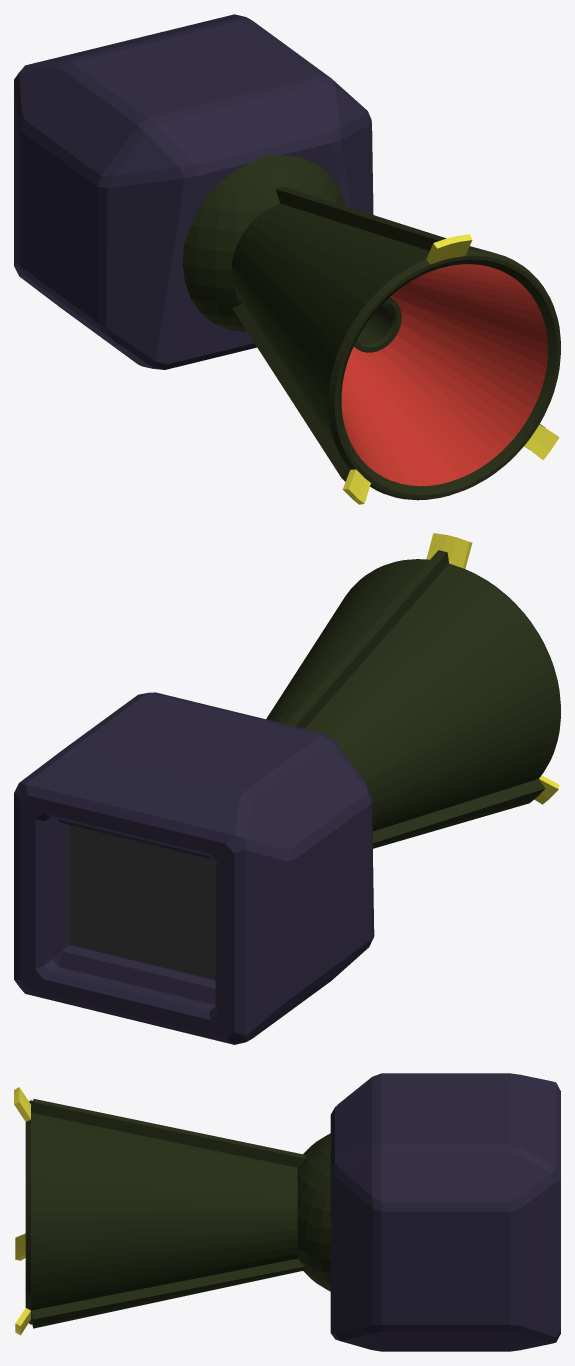
File: speedupitem.fbx
The picture shows the model from 3 angles, top to bottom: view 1: azimuth 30°, elevation 25°; view 2: azimuth 150°, elevation 25°; view 3: azimuth 270°, elevation 25°; orthographic projection. The views are drawn at different scales.
Parts seen in each view (by area): view 1: 球, Cube; view 2: Cube, 球; view 3: Cube, 球.
Boxes of the visible parts, box(x1,y1,x2,y2) form: 球: box(182, 155, 560, 504); Cube: box(14, 14, 373, 369); Cube: box(14, 692, 374, 1044); 球: box(266, 533, 560, 848); Cube: box(330, 1073, 560, 1351); 球: box(14, 1087, 331, 1335).
Size of the model in its own units: 180 by 167 by 372.
